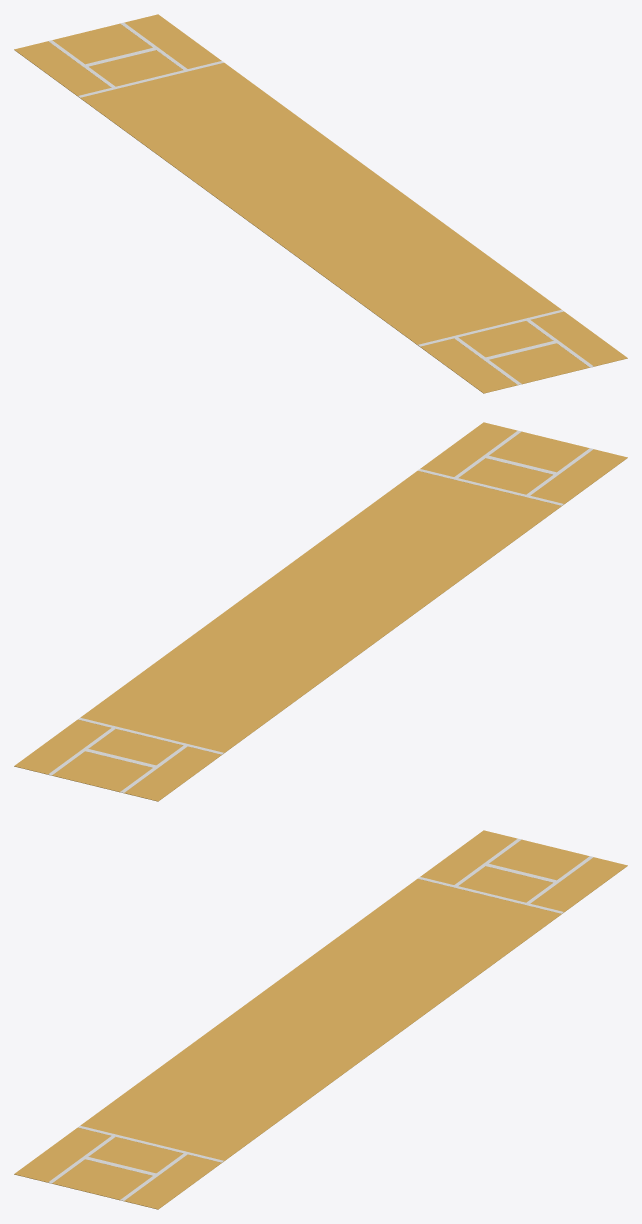
Rendered from Cricket Pitch.fbx.
3 views of the same model, one above another, from view 1: azimuth 30°, elevation 25°; view 2: azimuth 150°, elevation 25°; view 3: azimuth 330°, elevation 25° (orthographic).
Visible parts, largest first — view 1: Cricket Pitch; view 2: Cricket Pitch; view 3: Cricket Pitch.
Part boxes in pixels (x1,y1,x2,y2): Cricket Pitch: [14, 14, 627, 393]; Cricket Pitch: [14, 422, 627, 801]; Cricket Pitch: [14, 830, 627, 1209].
Bounding box in the file's own units: 1592 × 4.55 × 8981.
